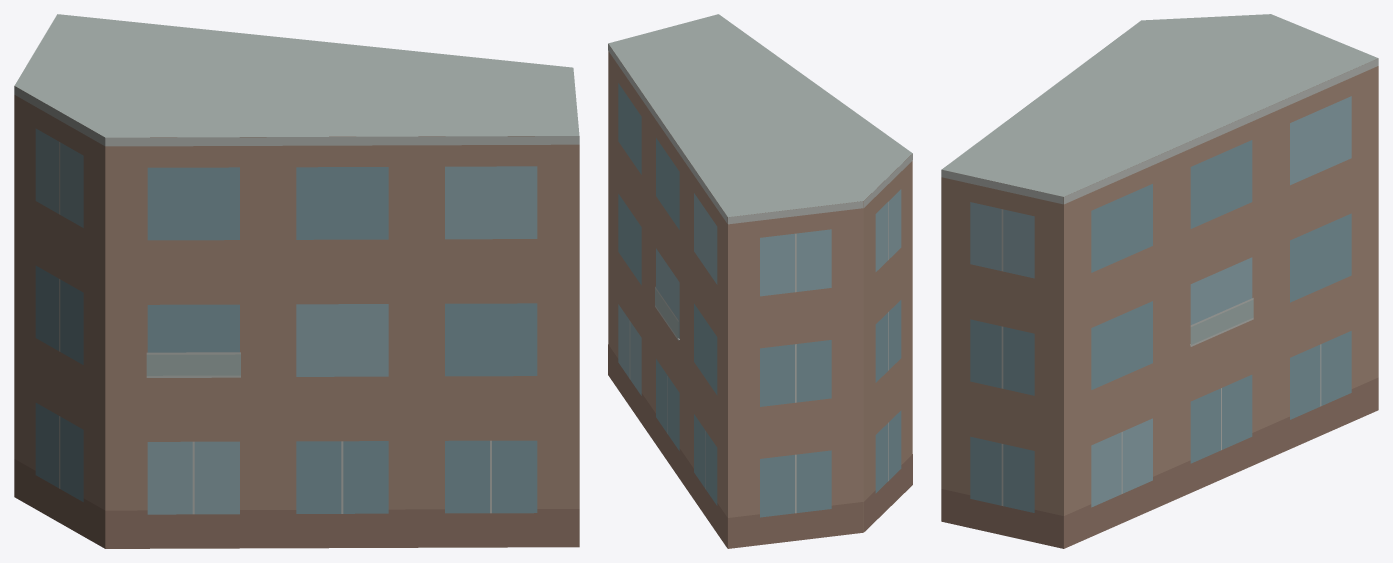
Rendered from survey-upis-32500024.glb.
3 views of the same model, side by side, from view 1: azimuth 30°, elevation 25°; view 2: azimuth 150°, elevation 25°; view 3: azimuth 270°, elevation 25° (orthographic). The views are drawn at different scales.
Visible parts, largest first — view 1: survey-upis-32500024.tmp; view 2: survey-upis-32500024.tmp; view 3: survey-upis-32500024.tmp.
Part boxes in pixels (left/top/right/bottom): survey-upis-32500024.tmp: left=14, top=14, right=579, bottom=548; survey-upis-32500024.tmp: left=608, top=14, right=912, bottom=548; survey-upis-32500024.tmp: left=941, top=14, right=1378, bottom=548.
Bounding box in the file's own units: 12.61 × 11.31 × 12.74.
